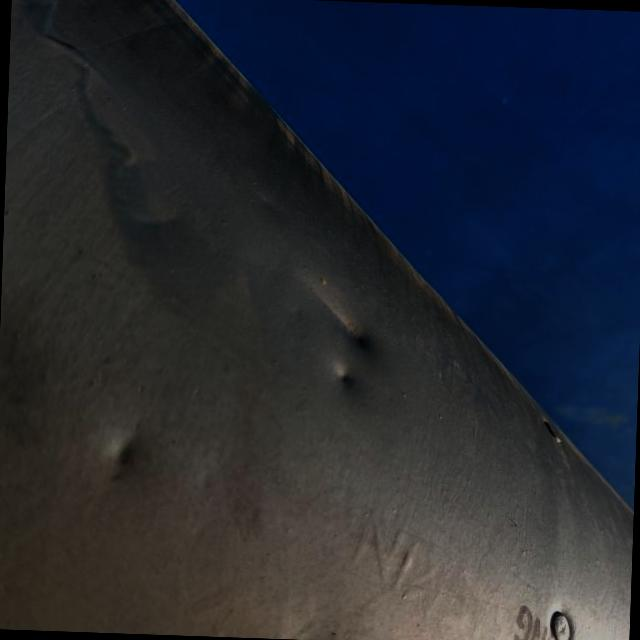dent: (294, 270, 386, 367), (80, 409, 164, 506), (317, 354, 364, 404)
